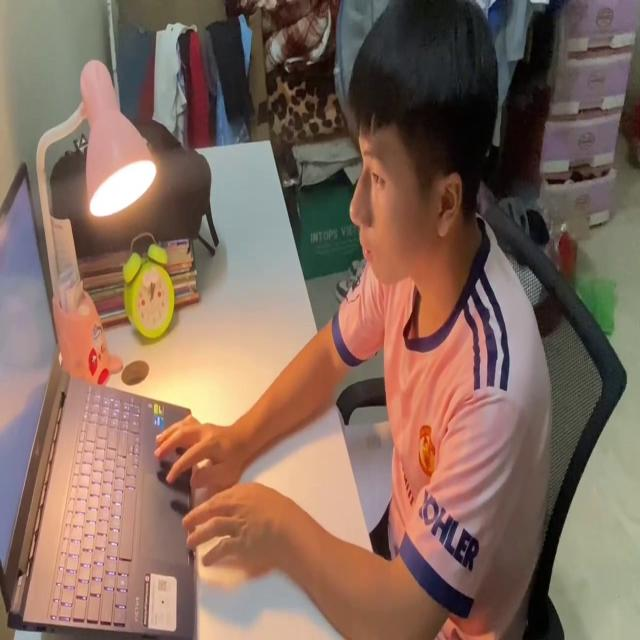laptop: (0, 153, 198, 640)
student: (152, 0, 554, 640)
